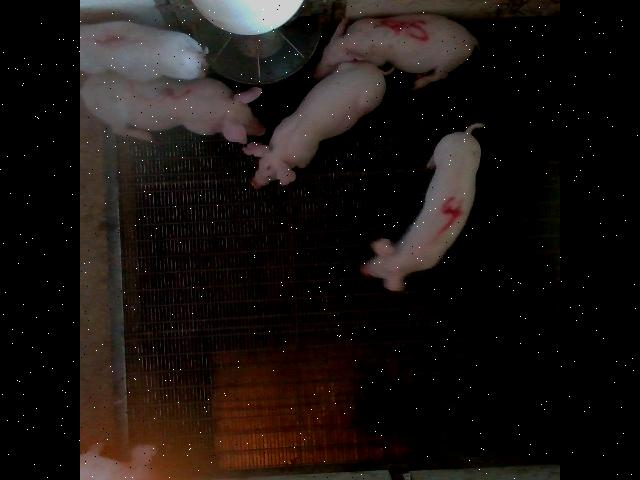pig-1: (81, 21, 219, 82)
pig-3: (82, 74, 265, 141)
pig-4: (361, 122, 483, 290)
pig-5: (313, 14, 480, 89)
